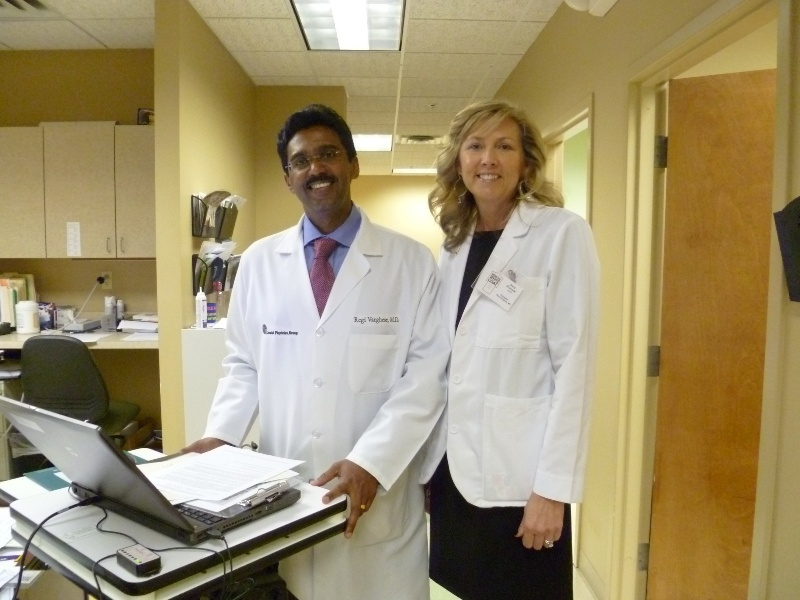face: (445, 109, 531, 211), (283, 120, 359, 221)
